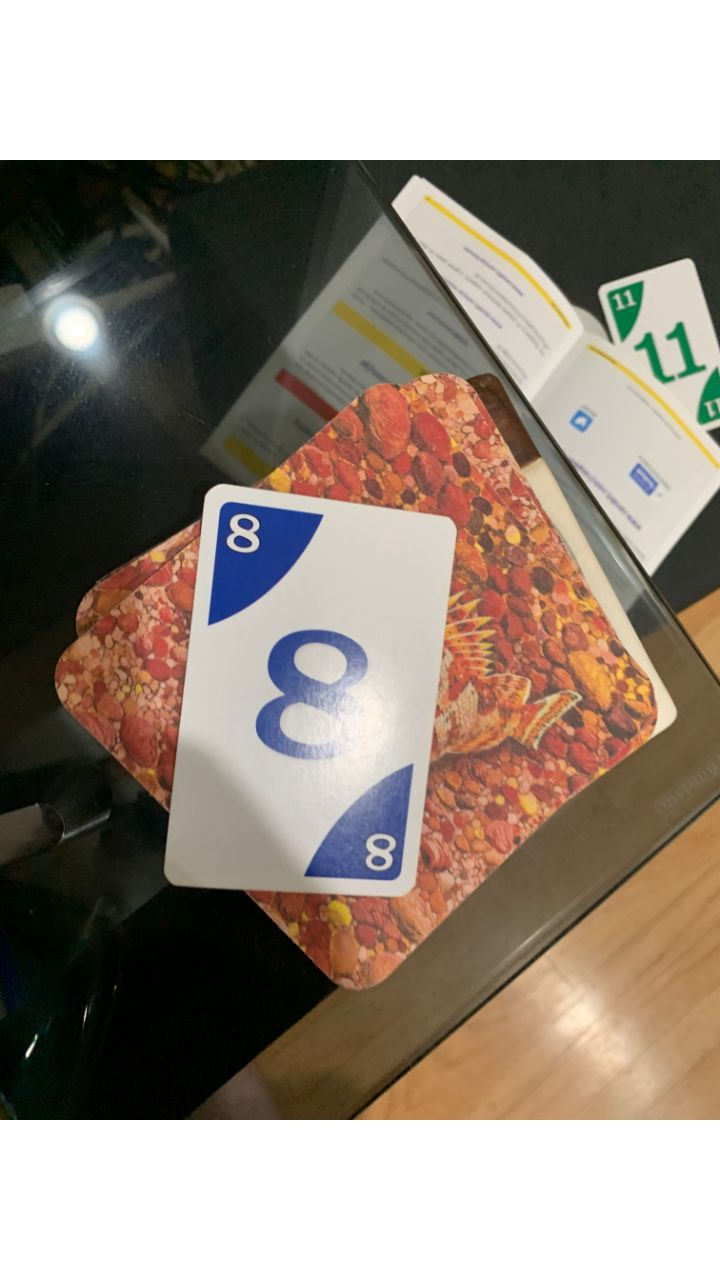eight: (163, 484, 456, 901)
